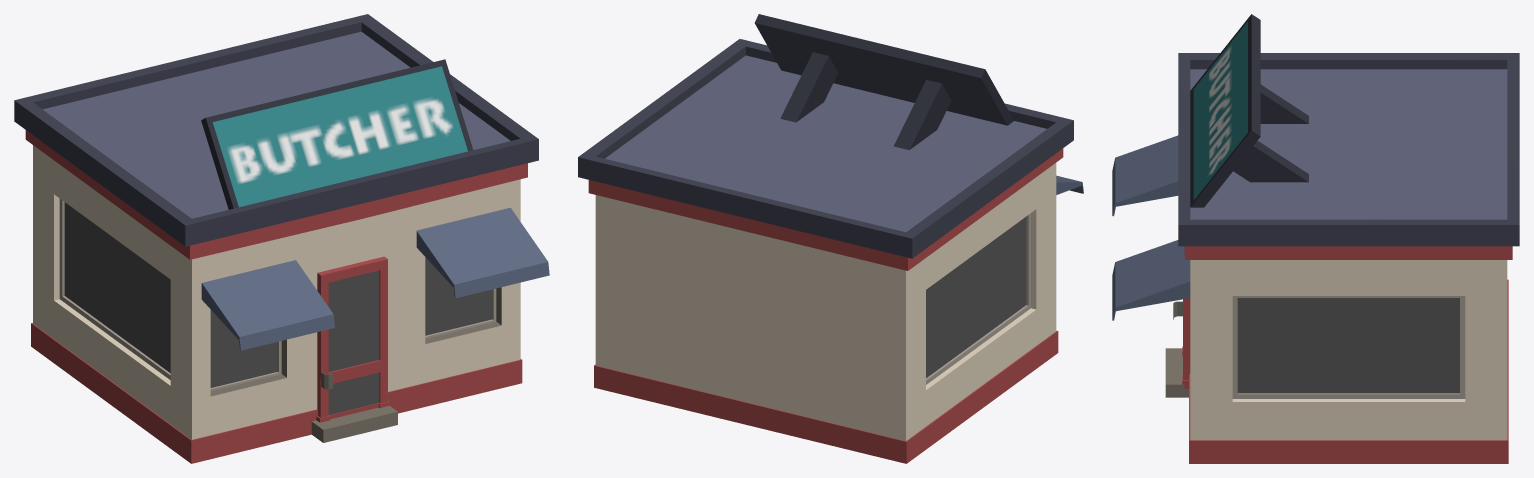
File: butcher02_color03.fbx
3 renders of one model, left to right at view 1: azimuth 30°, elevation 25°; view 2: azimuth 150°, elevation 25°; view 3: azimuth 270°, elevation 25°, orthographic. The views are drawn at different scales.
Parts seen in each view (by area): view 1: butcher02_color03; view 2: butcher02_color03; view 3: butcher02_color03.
Boxes of the visible parts, x1,y1,x2,y2 form: butcher02_color03: (14,14,549,463); butcher02_color03: (578,14,1083,463); butcher02_color03: (1112,14,1519,463).
Bounding box in the file's own units: 743 × 627 × 743.
